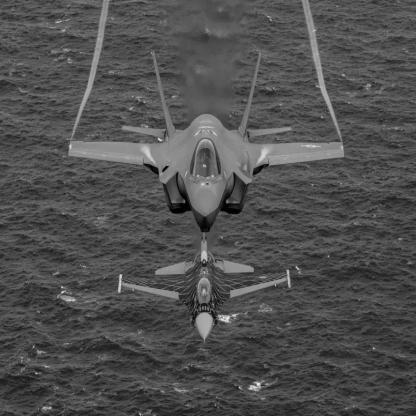F16: (119, 233, 292, 345)
F35: (69, 53, 346, 234)
